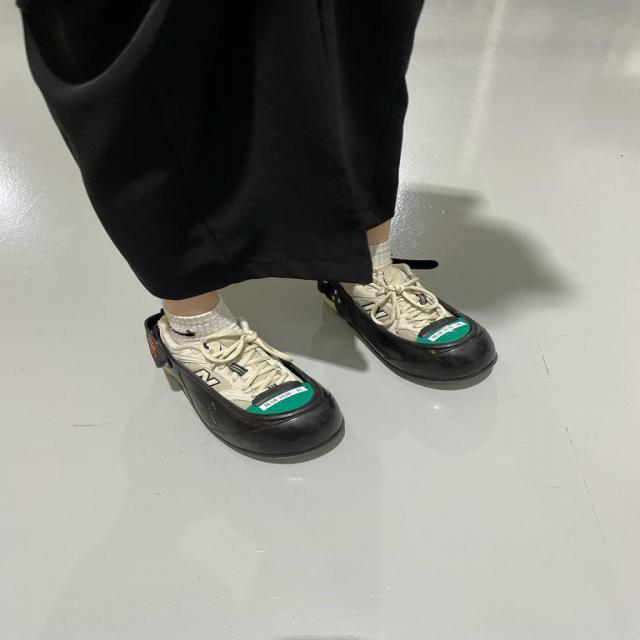shoes: (137, 306, 348, 467), (326, 246, 500, 388)
